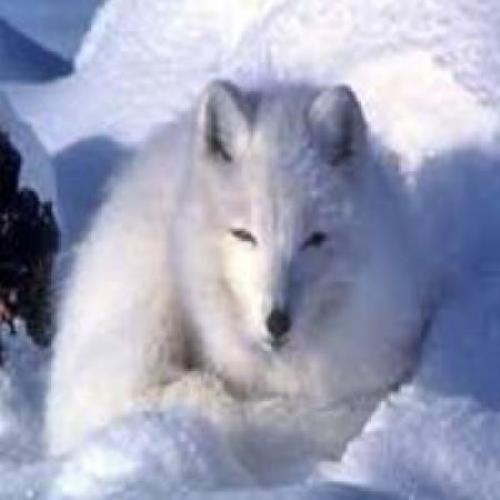arctic_fox-endangered: (47, 81, 432, 455)
